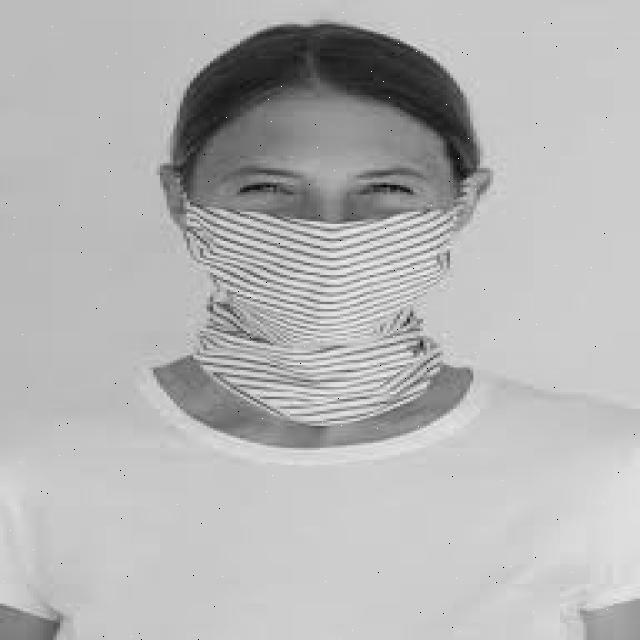fake: (158, 198, 473, 429)
real: (182, 98, 456, 347)
